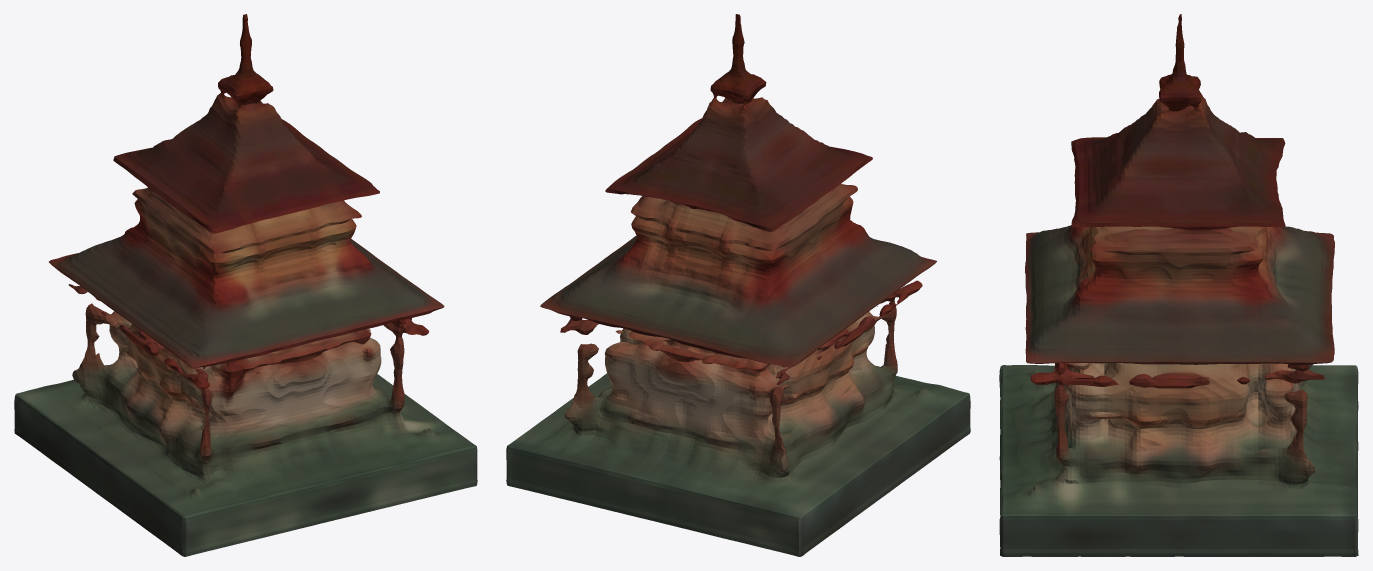
Rendered from japanese-pagoda.glb.
The picture shows the model from 3 angles, left to right: view 1: azimuth 30°, elevation 25°; view 2: azimuth 150°, elevation 25°; view 3: azimuth 270°, elevation 25°; orthographic projection. The views are drawn at different scales.
Visible parts, largest first — view 1: tmpk06sw6dh.ply; view 2: tmpk06sw6dh.ply; view 3: tmpk06sw6dh.ply.
Part boxes in pixels (left/top/right/bottom): tmpk06sw6dh.ply: left=14, top=14, right=477, bottom=556; tmpk06sw6dh.ply: left=506, top=14, right=970, bottom=556; tmpk06sw6dh.ply: left=999, top=14, right=1358, bottom=556.
Size of the model in its own units: 1.37 by 1.98 by 1.37.
